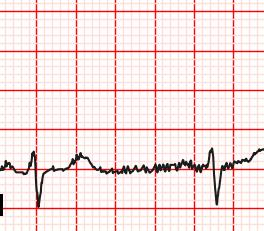LVH: (63, 151, 101, 178)
Poor R Progression: (25, 148, 41, 176), (206, 145, 220, 170)
ST Depression: (22, 169, 57, 210), (201, 163, 233, 207)
